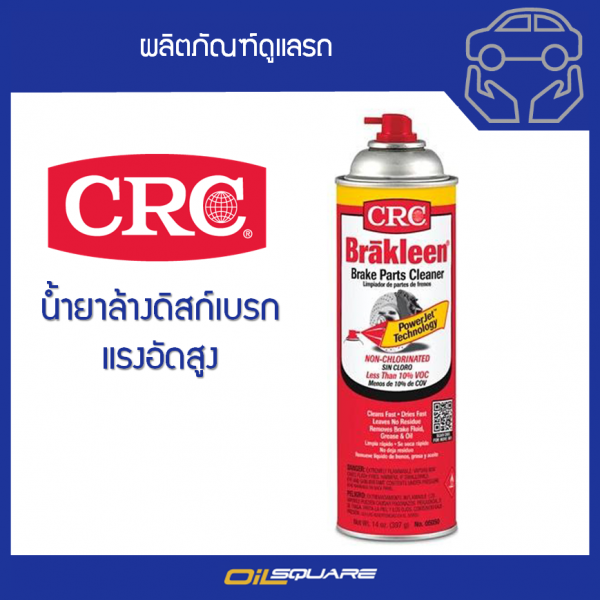Cleaning_solution: (328, 111, 464, 546)
